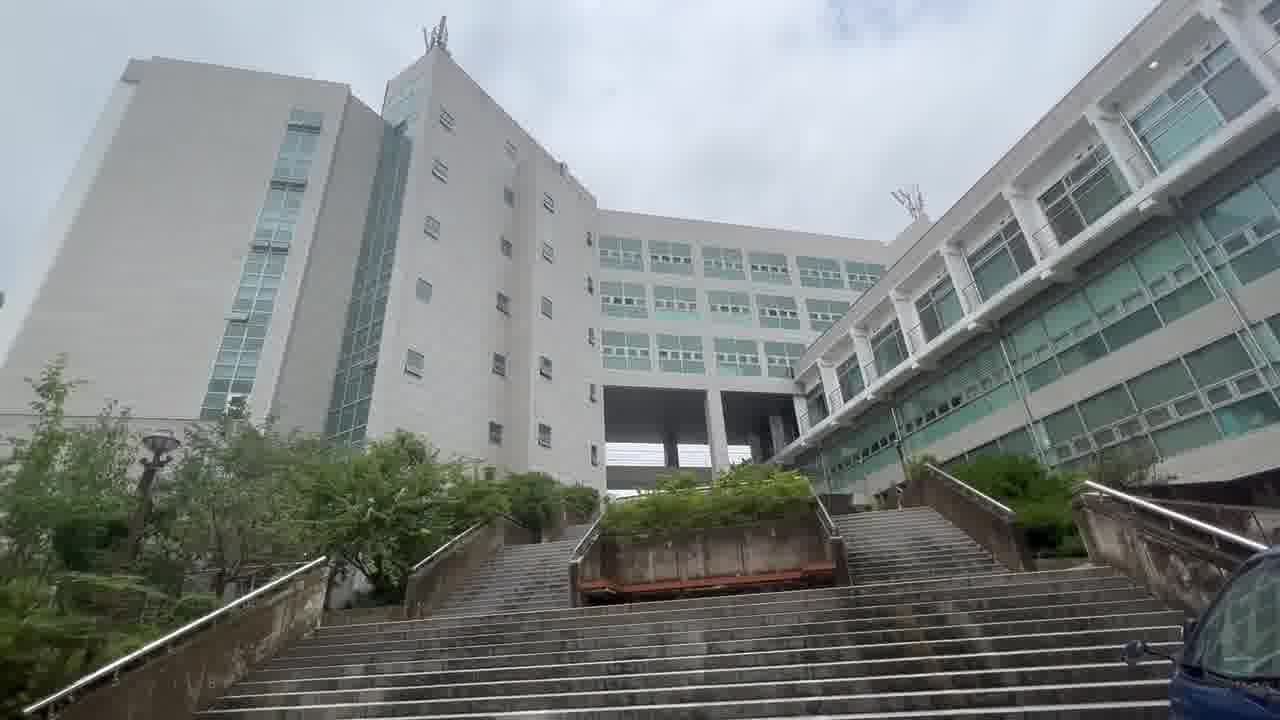low: (79, 79, 861, 452)
